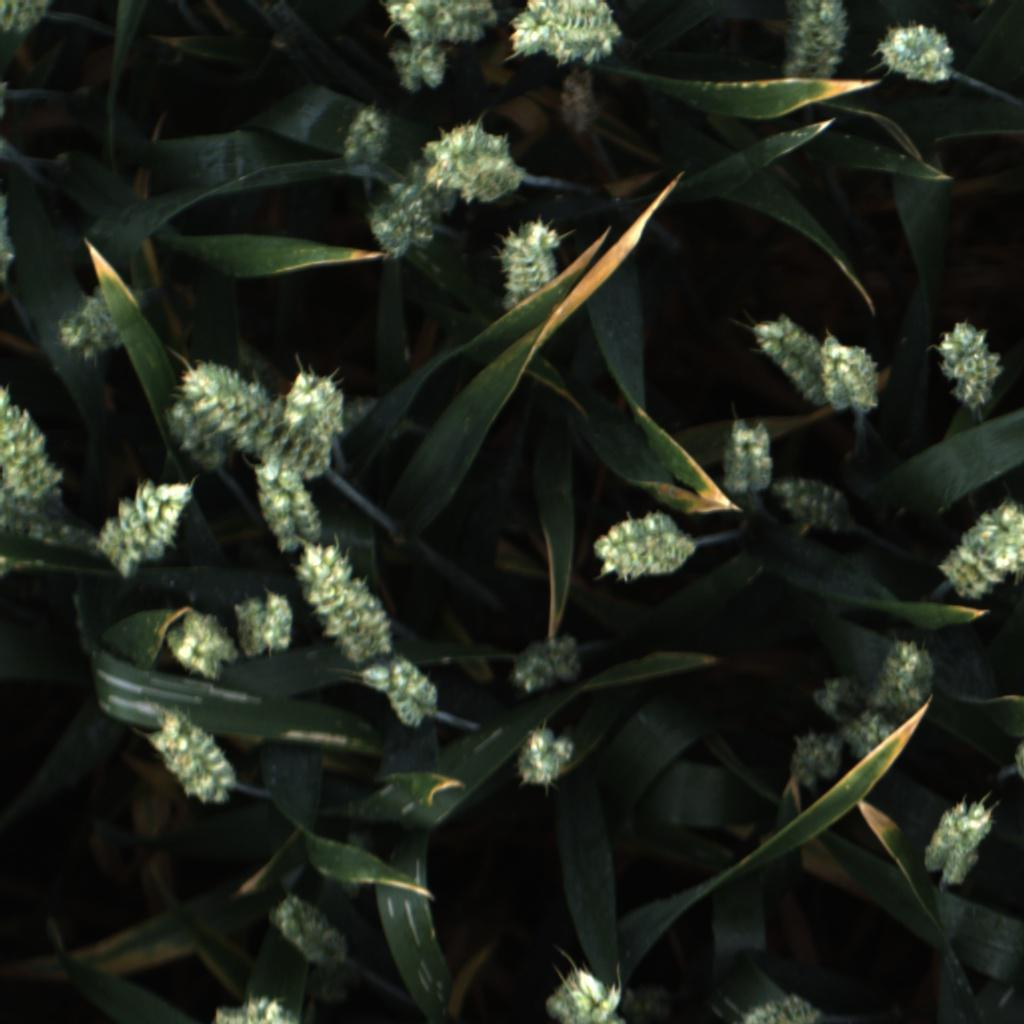0-0: (182, 351, 339, 481), (294, 538, 399, 671), (0, 367, 70, 517), (143, 708, 243, 806), (100, 474, 197, 574), (936, 499, 1024, 609), (417, 124, 527, 206), (58, 276, 151, 367), (248, 456, 327, 562), (594, 504, 697, 584), (503, 0, 623, 63), (0, 495, 116, 558), (929, 320, 1008, 411), (923, 793, 997, 890), (270, 883, 352, 969), (495, 218, 565, 318), (747, 315, 823, 403), (164, 603, 245, 683), (867, 630, 937, 721), (780, 1, 855, 80), (361, 658, 443, 728), (543, 960, 631, 1024), (816, 338, 888, 416), (878, 19, 959, 86), (163, 392, 228, 475), (283, 369, 353, 445), (364, 195, 436, 265), (509, 721, 579, 793), (386, 0, 500, 44), (774, 473, 859, 531), (233, 588, 295, 664), (718, 413, 774, 496), (509, 631, 581, 695), (384, 159, 459, 220), (336, 102, 393, 181), (709, 987, 821, 1024), (783, 728, 845, 788), (384, 41, 450, 95), (344, 396, 414, 444), (205, 990, 300, 1024), (842, 712, 901, 766), (808, 675, 874, 721), (556, 70, 600, 137), (0, 0, 53, 40), (0, 547, 26, 580)
